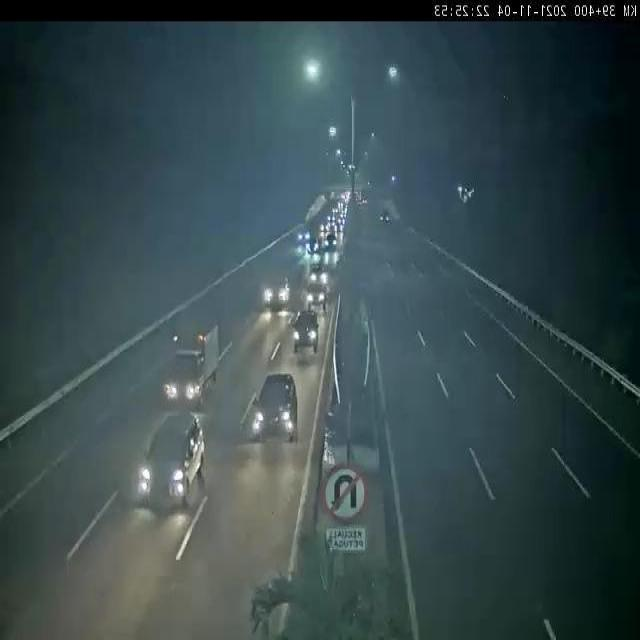Car: (118, 412, 218, 530), (248, 366, 306, 439), (285, 300, 324, 361), (251, 262, 294, 317)
Truck: (149, 299, 221, 406)
